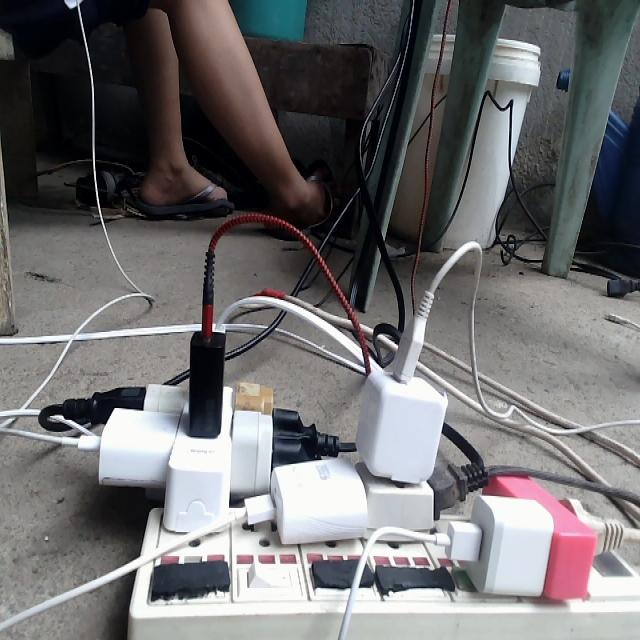-: (55, 258, 639, 638)
